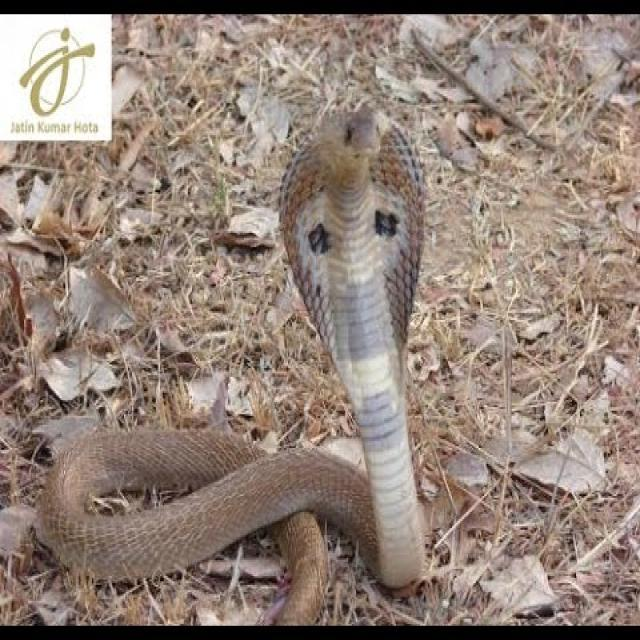Snake: (11, 103, 430, 626)
